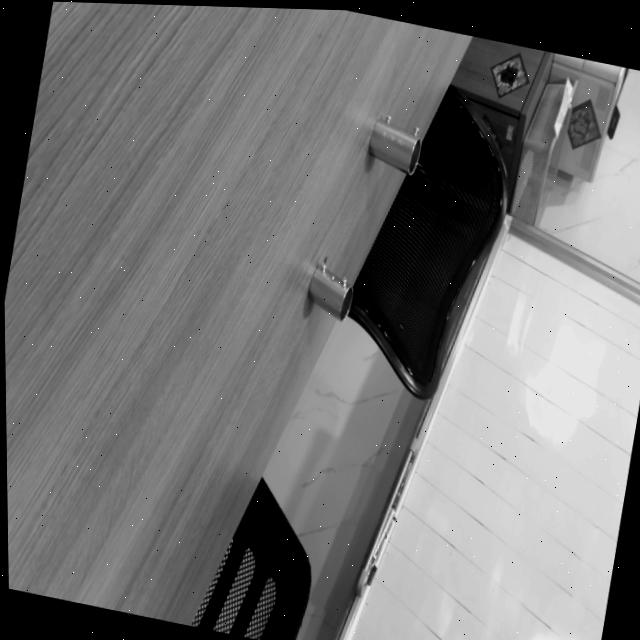Co_Lon: (361, 113, 428, 175)
Co_Nho: (295, 257, 363, 326)
